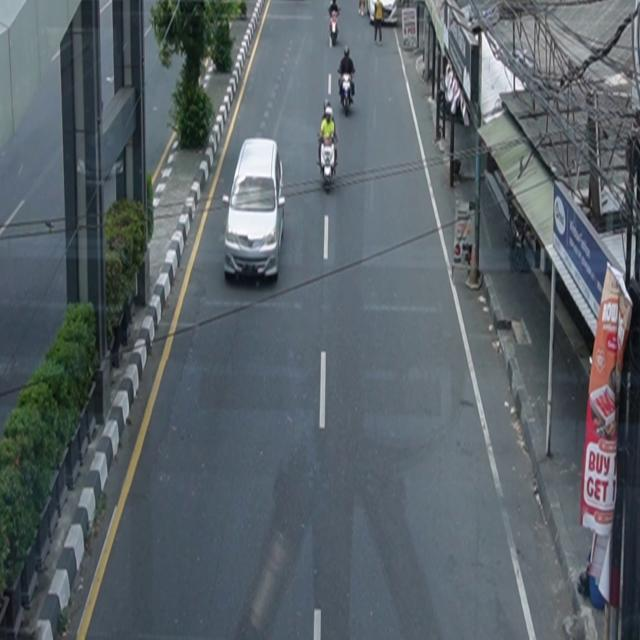car: (223, 137, 286, 284)
